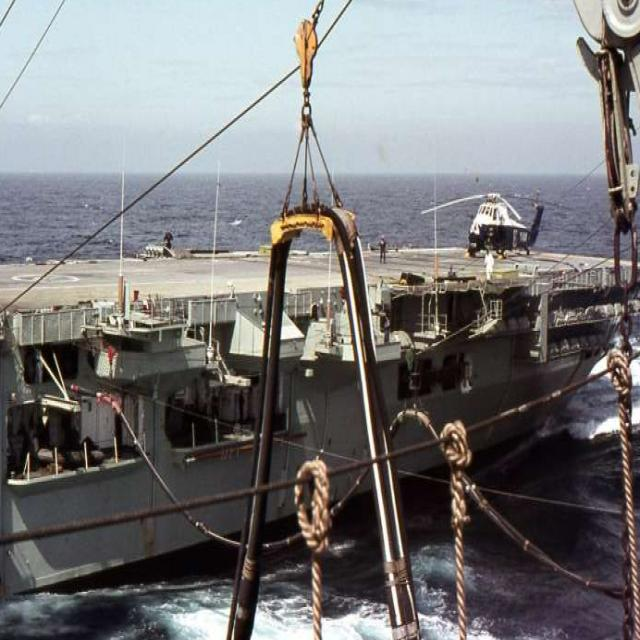Portanaves: (1, 170, 640, 589)
